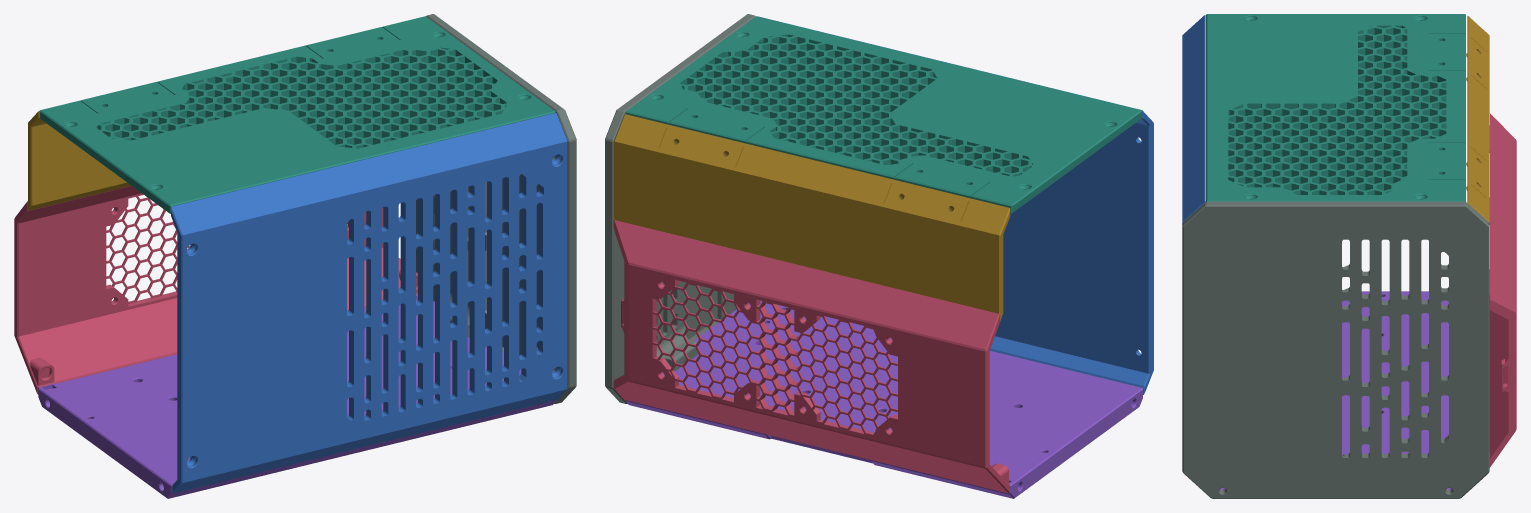
File: before.glb
3 renders of one model, left to right at view 1: azimuth 30°, elevation 25°; view 2: azimuth 150°, elevation 25°; view 3: azimuth 270°, elevation 25°, orthographic.
Parts seen in each view (by area): view 1: Back, Top, Front_Lower, Bottom, Left, Front_Upper; view 2: Front_Lower, Top, Front_Upper, Back, Bottom, Left; view 3: Left, Top, Front_Lower, Bottom, Back, Front_Upper.
Part boxes in pixels (box(x1,y1,x2,y2)): Back: box(171, 113, 567, 493); Top: box(40, 16, 555, 213); Front_Lower: box(14, 186, 417, 394); Bottom: box(38, 295, 556, 498); Left: box(416, 14, 576, 403); Front_Upper: box(27, 110, 131, 210); Front_Lower: box(613, 220, 1009, 493); Top: box(626, 16, 1141, 213); Front_Upper: box(613, 114, 1010, 322); Back: box(757, 16, 1153, 394); Bottom: box(625, 300, 1142, 498); Left: box(605, 14, 755, 403); Left: box(1182, 201, 1489, 498); Top: box(1206, 14, 1465, 201); Front_Lower: box(1489, 113, 1516, 467); Bottom: box(1220, 291, 1451, 490); Back: box(1182, 15, 1205, 223); Front_Upper: box(1466, 16, 1489, 223).
Bounding box in the file's own units: 0.2295 × 0.1639 × 0.1688.
